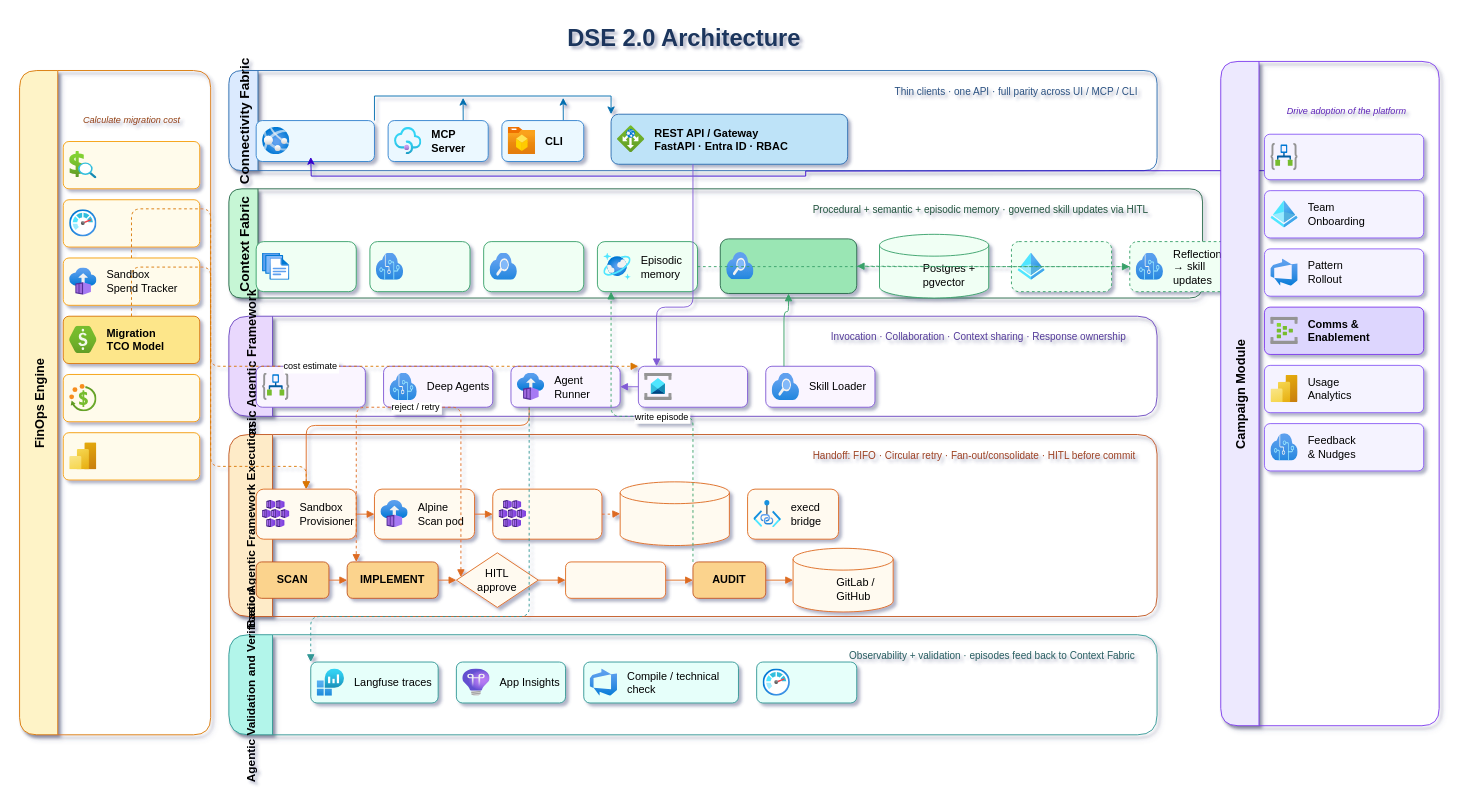
Some shapes in this 1466 by 803 pixel diagram are drawn without their labels. Each missing label, with the centre of its shape:
"Adoption Campaigns" belongs at (x=1344, y=156).
"Azure Files /workspace" belongs at (x=674, y=513).
"Budget & Alerts" belongs at (x=131, y=398).
"Chargeback Reports" belongs at (x=131, y=456).
"Commit + MR" belongs at (x=615, y=579).
"Cost Estimator" belongs at (x=131, y=165).
"Job Service" belongs at (x=692, y=386).
"Knowledge / Skill Service" belongs at (x=788, y=265).
"Langfuse Prompts" belongs at (x=419, y=266).
"LangGraph" belongs at (x=310, y=386).
"MR audit" belongs at (x=806, y=682).
"ReactBasedUI" belongs at (x=314, y=141).
"Resource Metering" belongs at (x=131, y=223).
"Semantic memory" belongs at (x=533, y=266).
"Skill-review HITL" belongs at (x=1061, y=266).
"Skills (SKILL.md)" belongs at (x=305, y=266).
"Stack Implement pod" belongs at (x=547, y=513).
